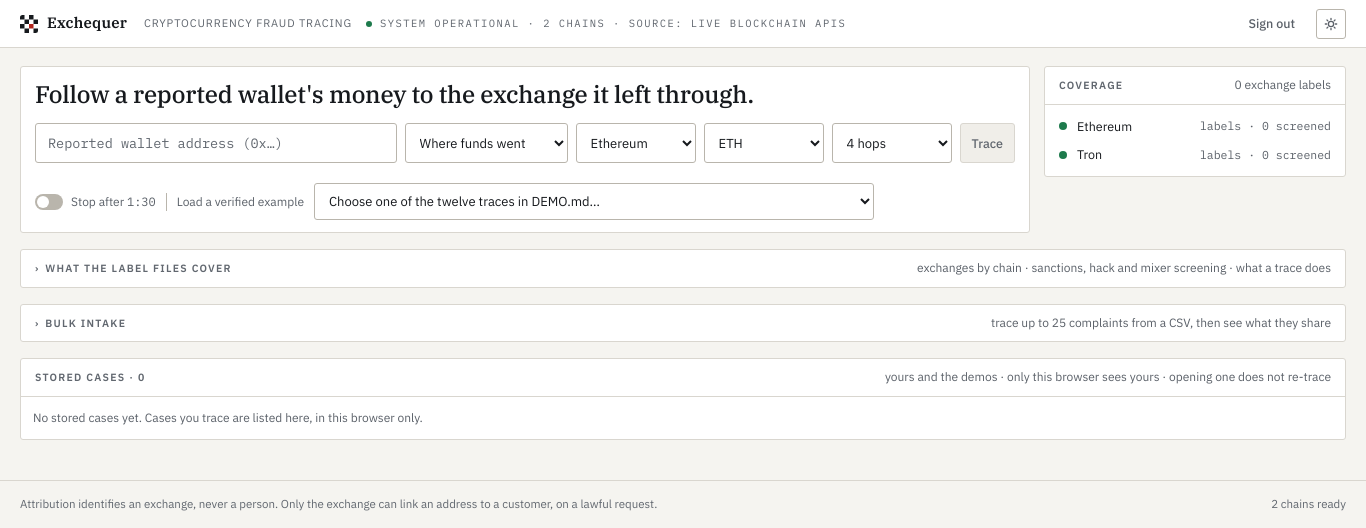
Test: the trace form › offers the recording of a loaded demo, and drops it once the form is edited
Expected: the text "SYSTEM OPERATIONAL · 2 CHAINS · SOURCE: LIVE BLOCKCHAIN APIS" is shown, [366,16,846,31]
Select "06 · The deposit address to name · Ethereum ETH · 3 hops" in the dropdown labelled "Load a verified example". click: (594, 202)
box: [314,183,874,220]
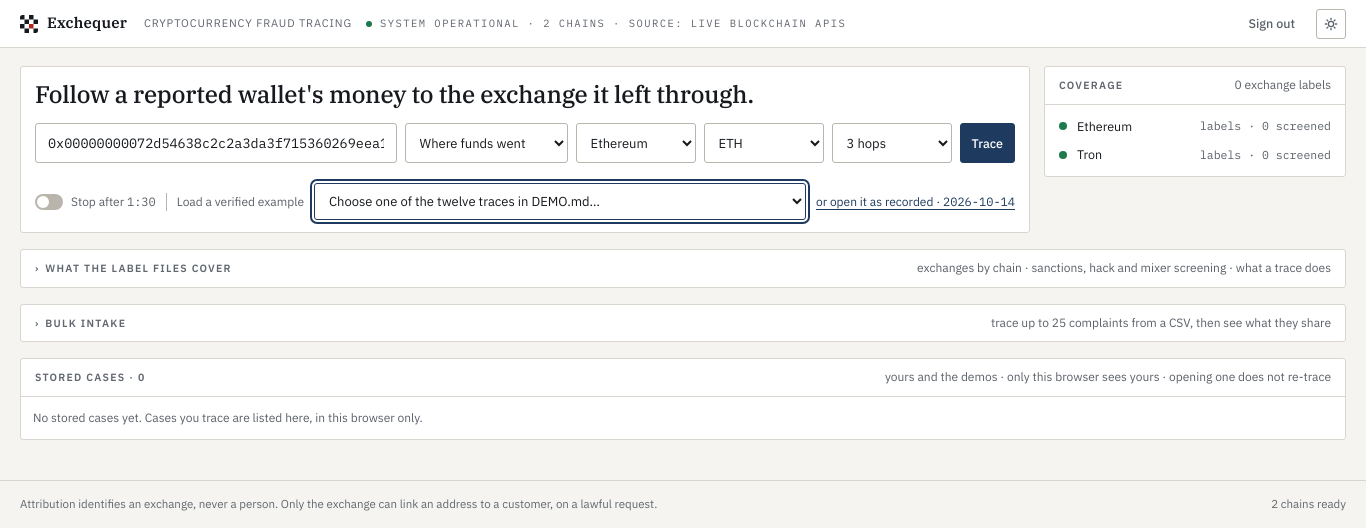
Expected: the link "or open it as recorded · 2026-10-14" is shown, [816,192,1015,210]
Type "f" into the field named "Reported wallet address". click: (216, 143)
box: [35,123,397,163]
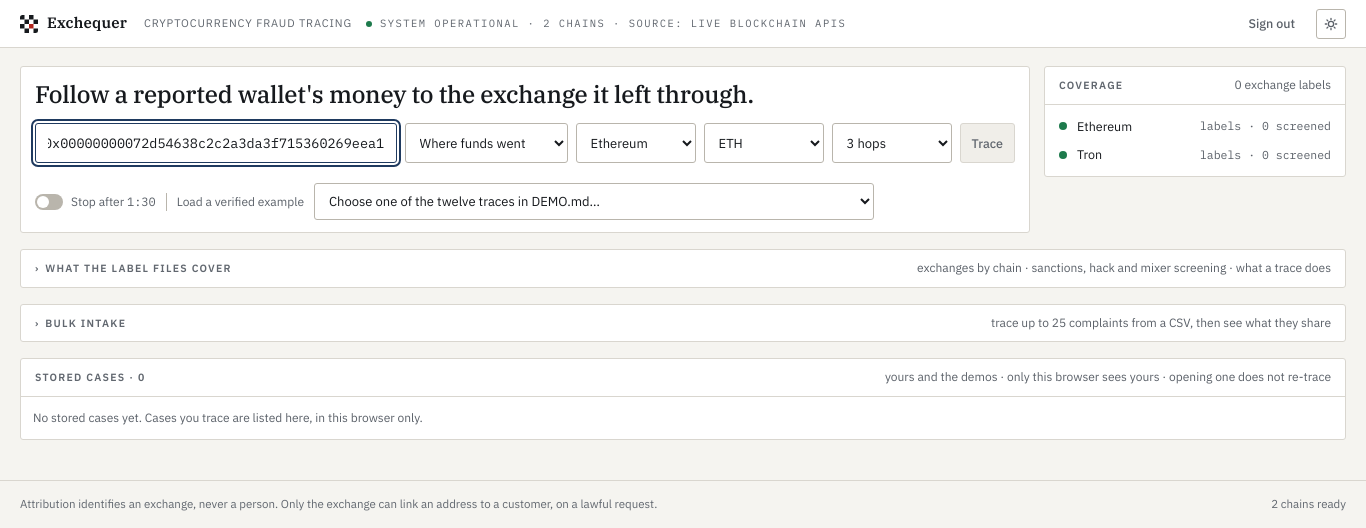
Expected: the link "open it as recorded" is gone
